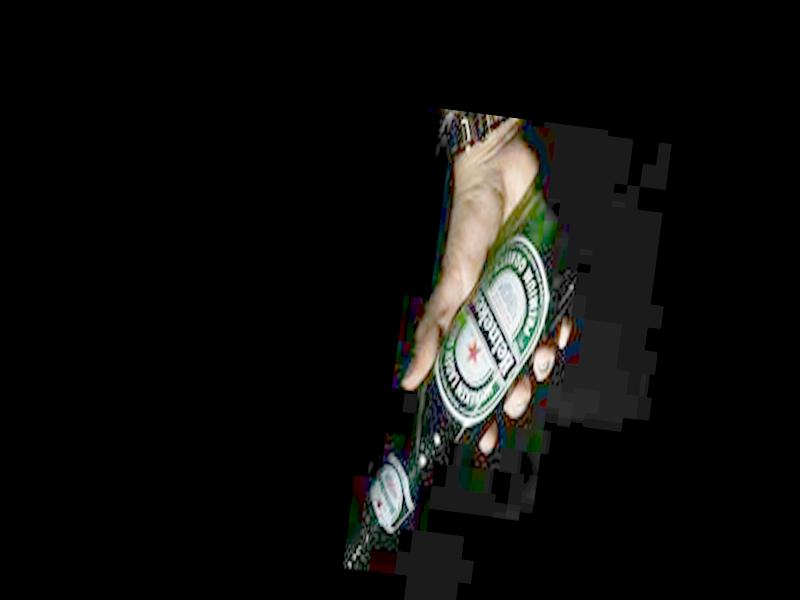Beer: (336, 154, 595, 600)
